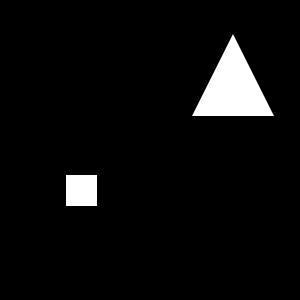circle: (66, 175, 97, 206)
triangle: (192, 34, 274, 116)
